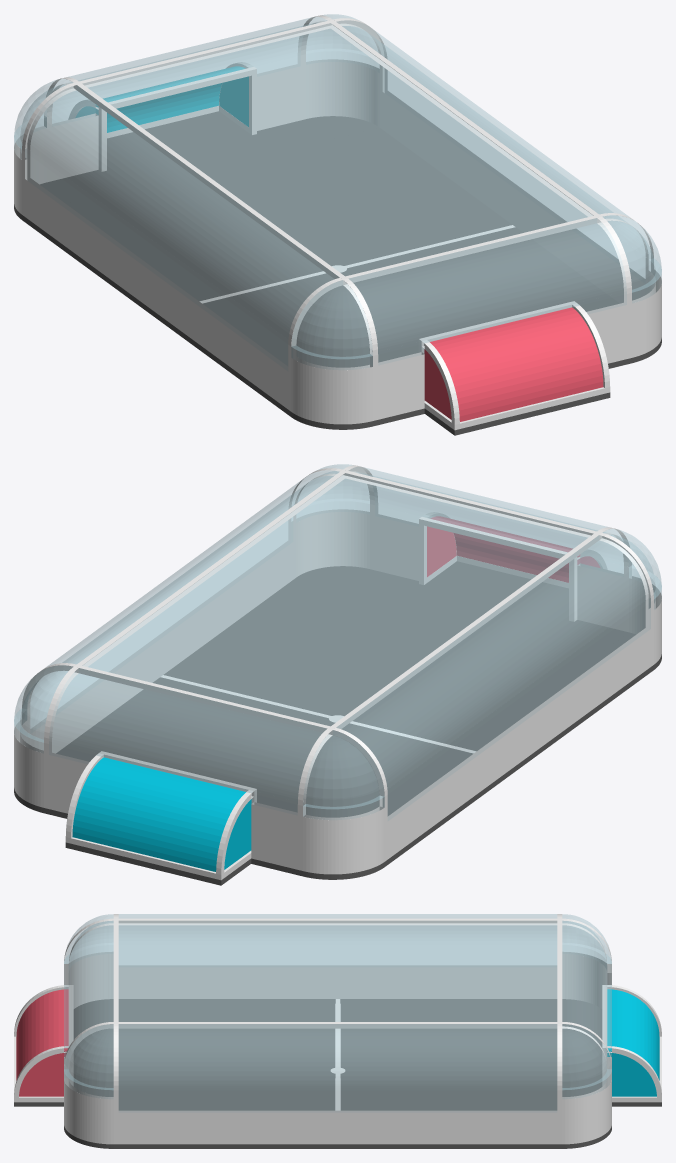
Rendered from arena.glb.
The picture shows the model from 3 angles, top to bottom: view 1: azimuth 30°, elevation 25°; view 2: azimuth 150°, elevation 25°; view 3: azimuth 270°, elevation 25°; orthographic projection. The views are drawn at different scales.
Parts seen in each view (by area): view 1: obj_0; view 2: obj_0; view 3: obj_0.
Boxes of the visible parts, <box> form: obj_0: <box>14,14,661,435</box>; obj_0: <box>14,464,661,885</box>; obj_0: <box>14,914,661,1148</box>.
Bounding box in the file's own units: 70 × 23 × 130.
